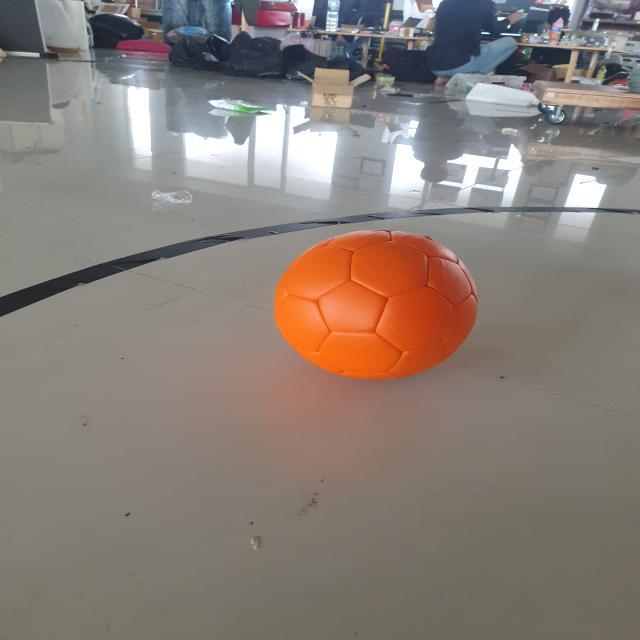bola: (264, 218, 496, 386)
